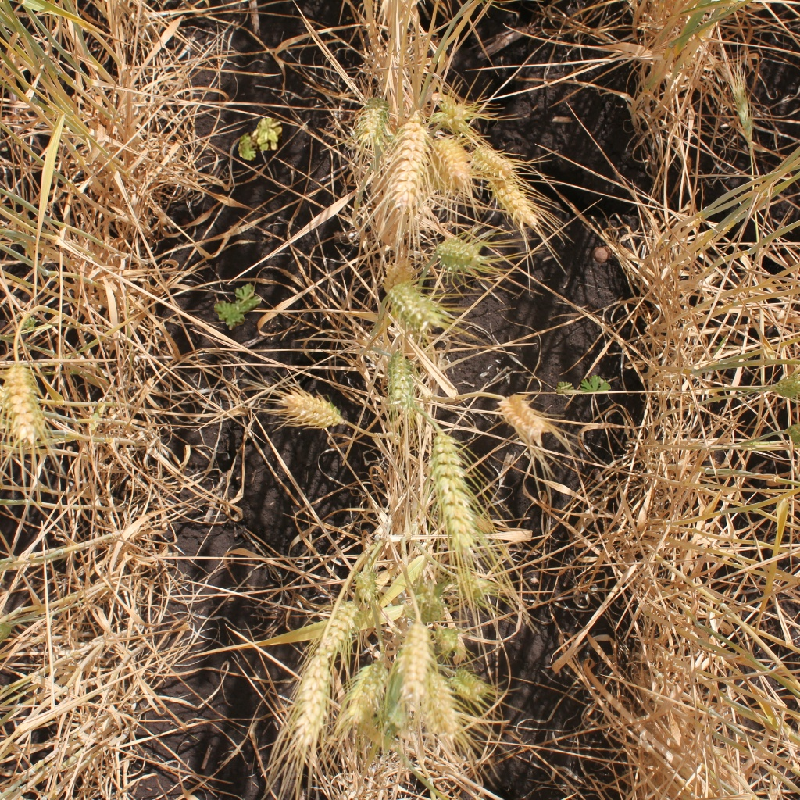spikelet: (427, 426, 479, 553), (473, 144, 540, 228), (288, 647, 337, 749), (386, 113, 430, 222), (1, 359, 47, 443), (393, 619, 436, 704), (418, 667, 465, 744), (342, 655, 389, 722), (387, 279, 445, 330), (280, 387, 344, 429), (497, 392, 547, 442), (433, 135, 474, 192), (318, 597, 361, 651), (384, 348, 419, 414), (434, 234, 485, 273), (450, 563, 497, 605), (408, 576, 449, 622), (353, 96, 389, 146), (448, 663, 493, 702), (433, 98, 475, 133), (351, 564, 384, 602), (433, 621, 465, 657), (774, 380, 800, 407)
weed: (553, 366, 612, 408), (214, 283, 262, 330), (238, 118, 283, 161)
